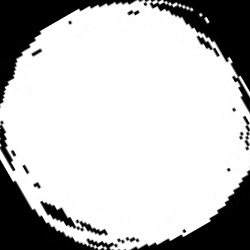spot: (2, 1, 249, 249)
